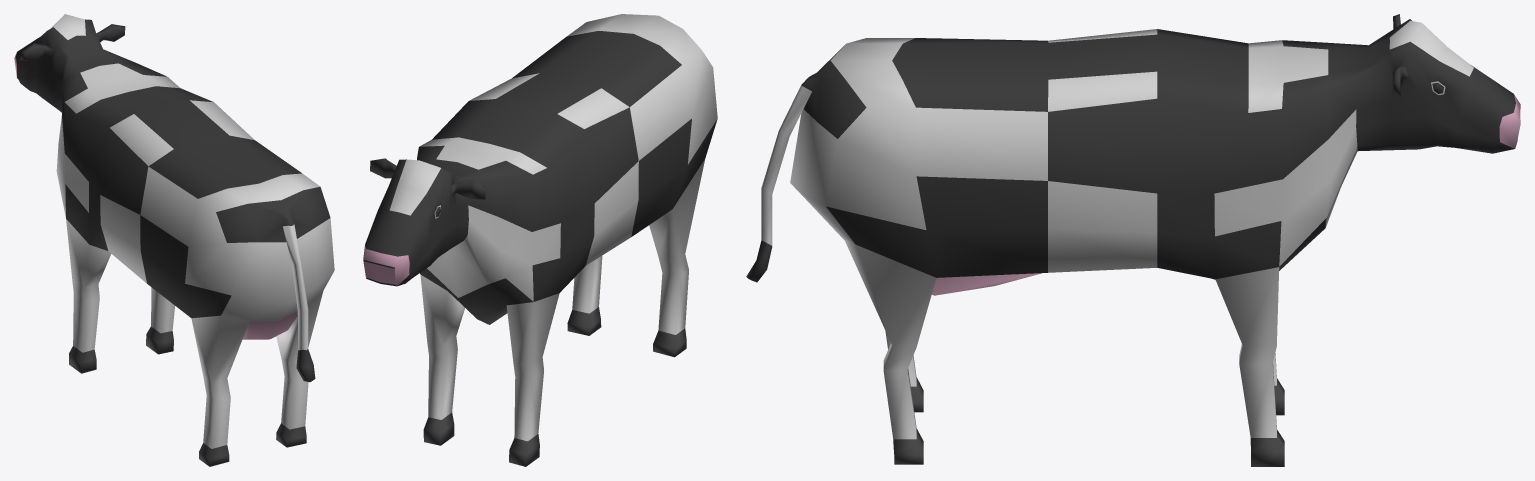
The model's file is Cow obstacle.fbx.
3 renders of one model, left to right at view 1: azimuth 30°, elevation 25°; view 2: azimuth 150°, elevation 25°; view 3: azimuth 270°, elevation 25°, orthographic. The views are drawn at different scales.
Visible parts, largest first — view 1: Cube; view 2: Cube; view 3: Cube.
Boxes of the visible parts, box(x1,y1,x2,y2) form: Cube: box(14, 14, 334, 466); Cube: box(363, 14, 717, 466); Cube: box(746, 14, 1520, 466).
Bounding box in the file's own units: 253 × 595 × 1010.
